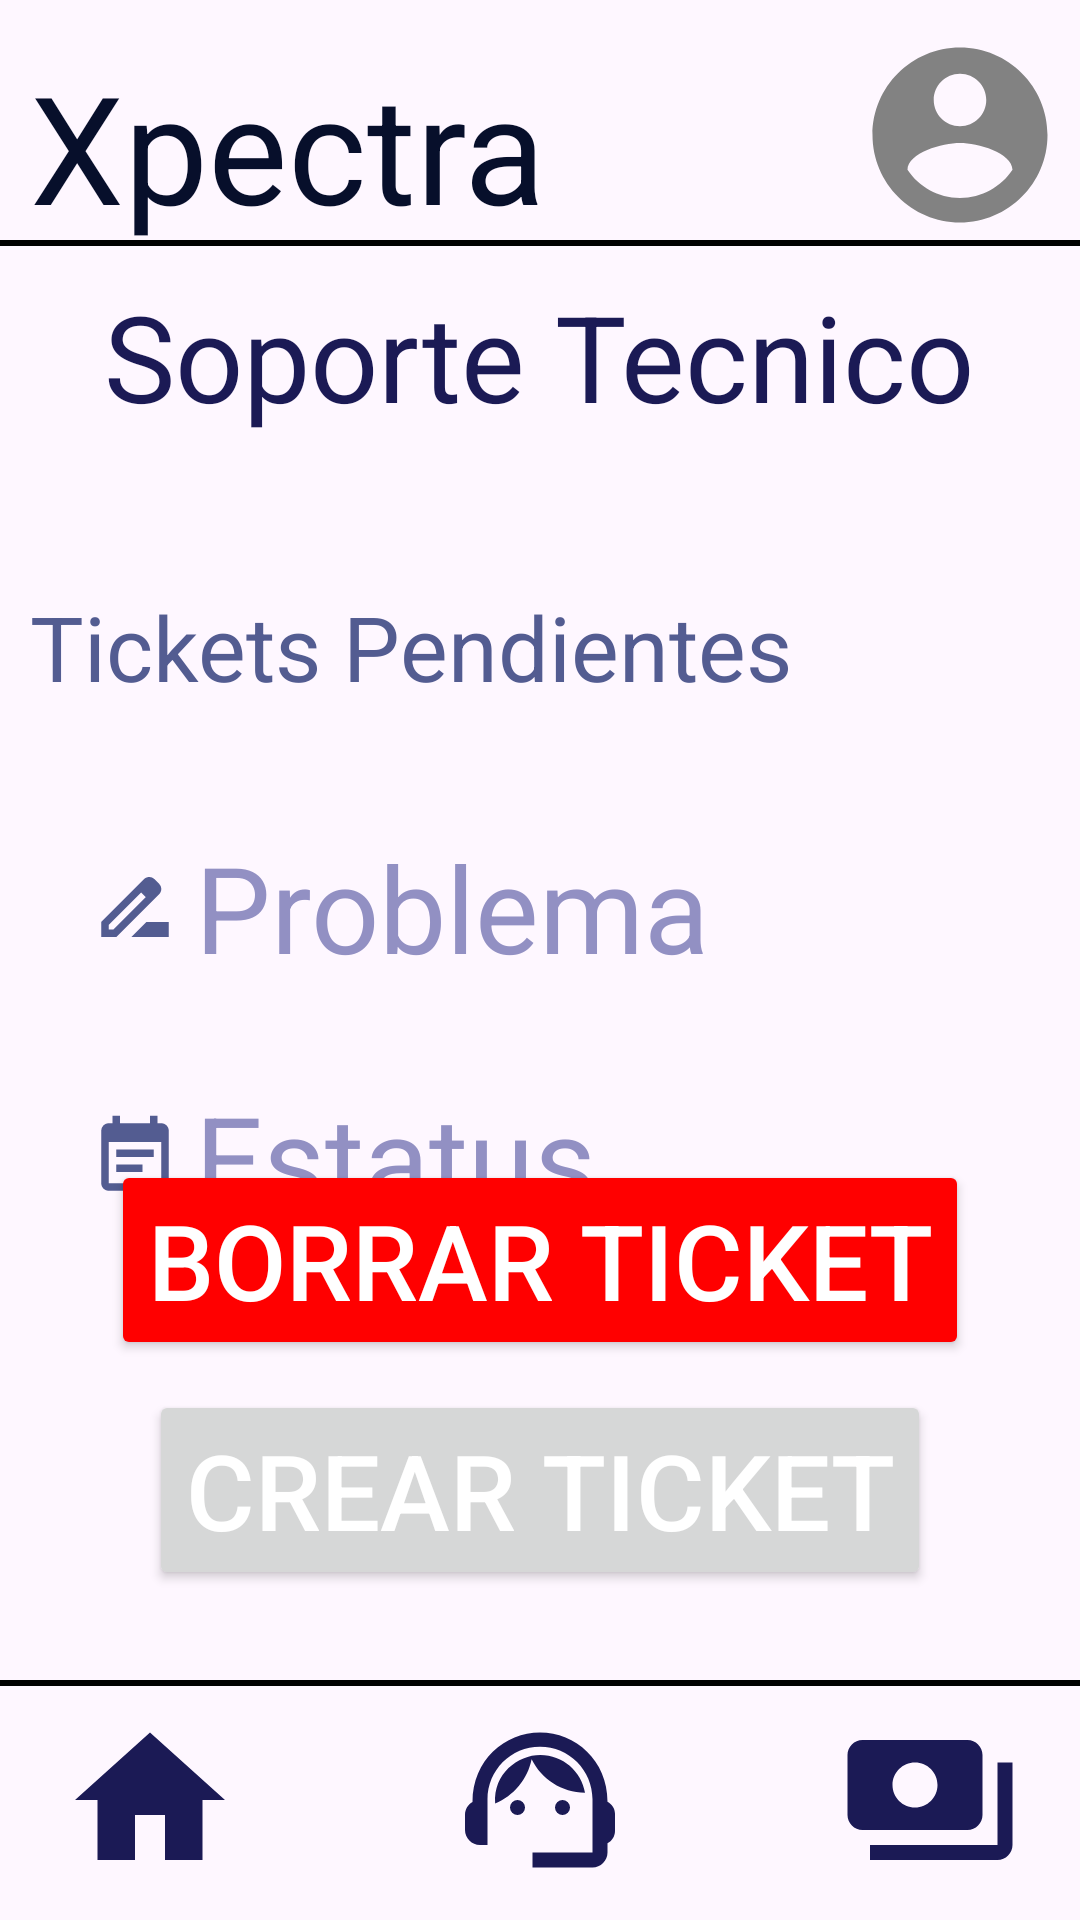

Locate icon controls on the screen. Image size 1080*1920, boxes as box=[x1, y1, x2, y2].
account: box=[872, 47, 1048, 223]
help: box=[465, 1732, 615, 1868]
home: box=[75, 1732, 225, 1860]
pay: box=[847, 1740, 1013, 1860]
